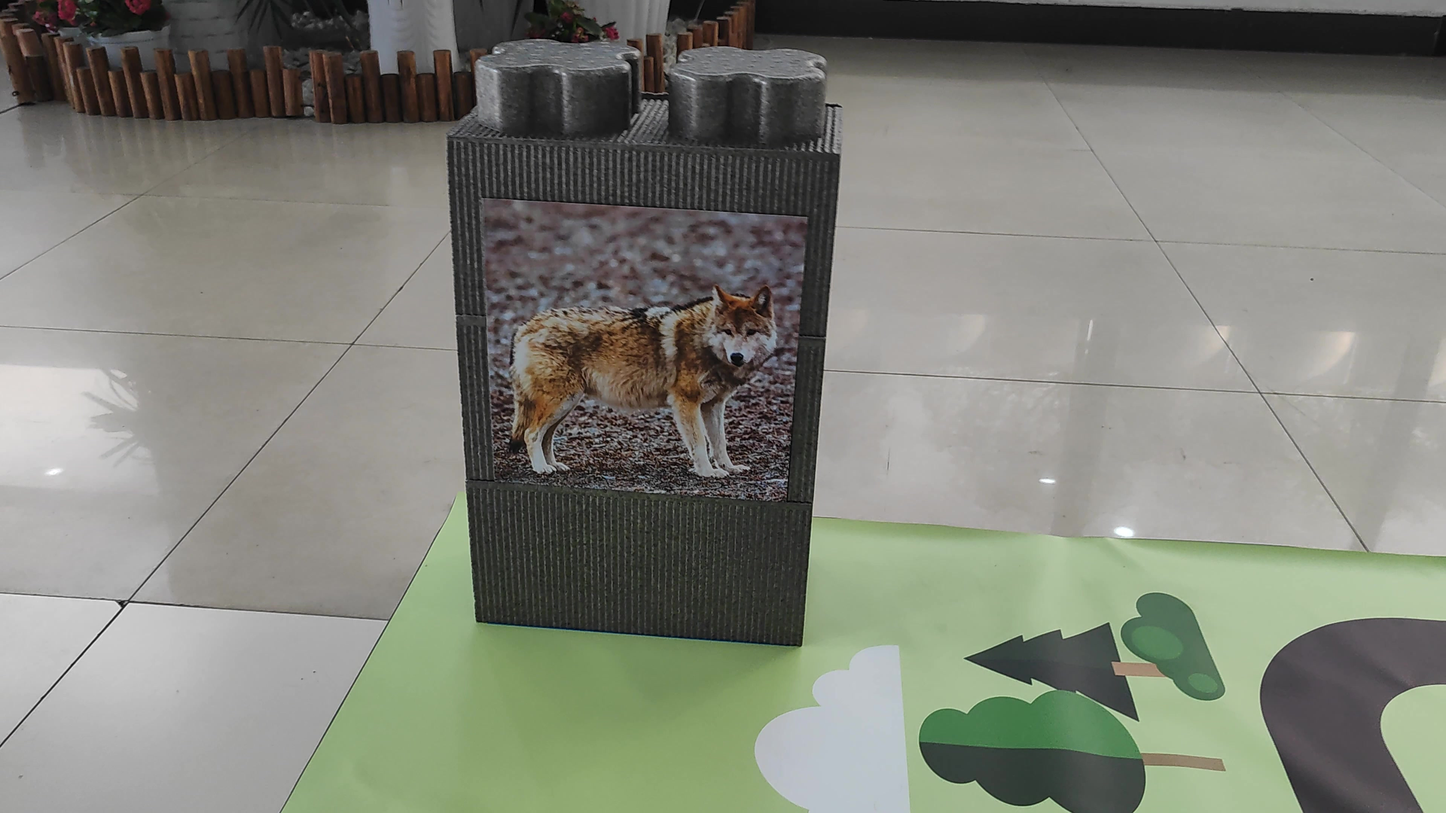wolf: (490, 245, 783, 494)
